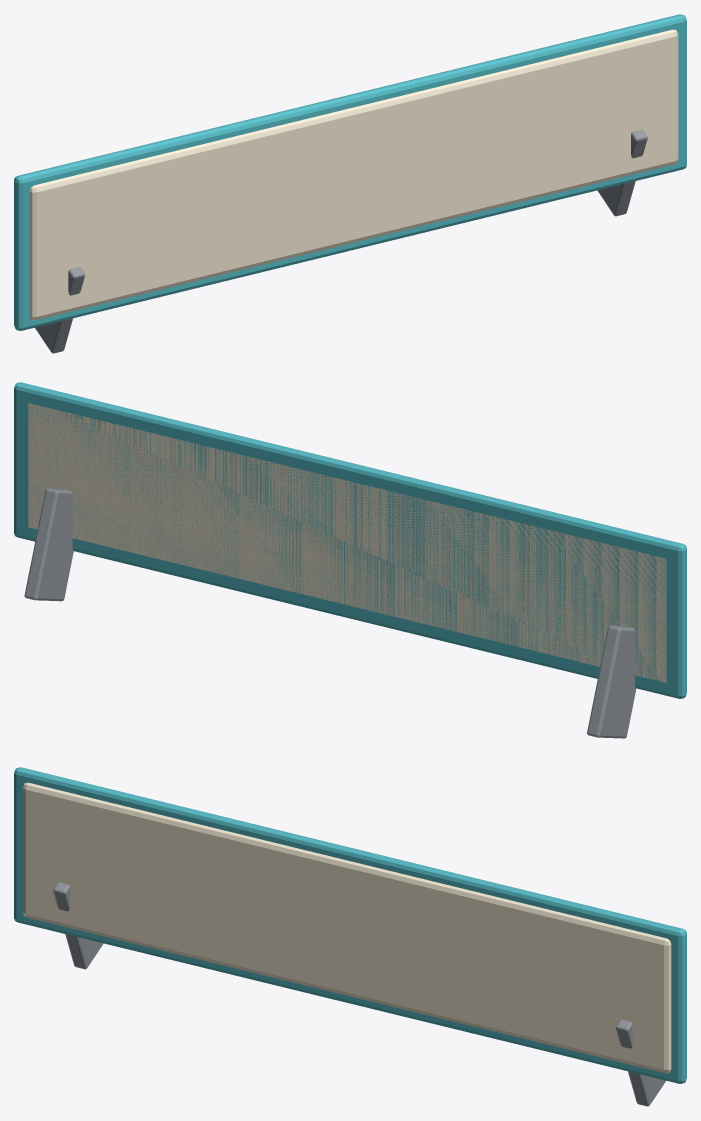
The model's file is ad_board.fbx.
3 renders of one model, top to bottom at view 1: azimuth 30°, elevation 25°; view 2: azimuth 150°, elevation 25°; view 3: azimuth 330°, elevation 25°, orthographic.
Parts seen in each view (by area): view 1: Visual; view 2: Visual; view 3: Visual.
Boxes of the visible parts, left/top/right/bottom form: Visual: left=14, top=14, right=686, bottom=353; Visual: left=14, top=382, right=686, bottom=738; Visual: left=14, top=767, right=686, bottom=1106.
Size of what is drawn, in the model's own units: 620 by 173 by 79.57.
